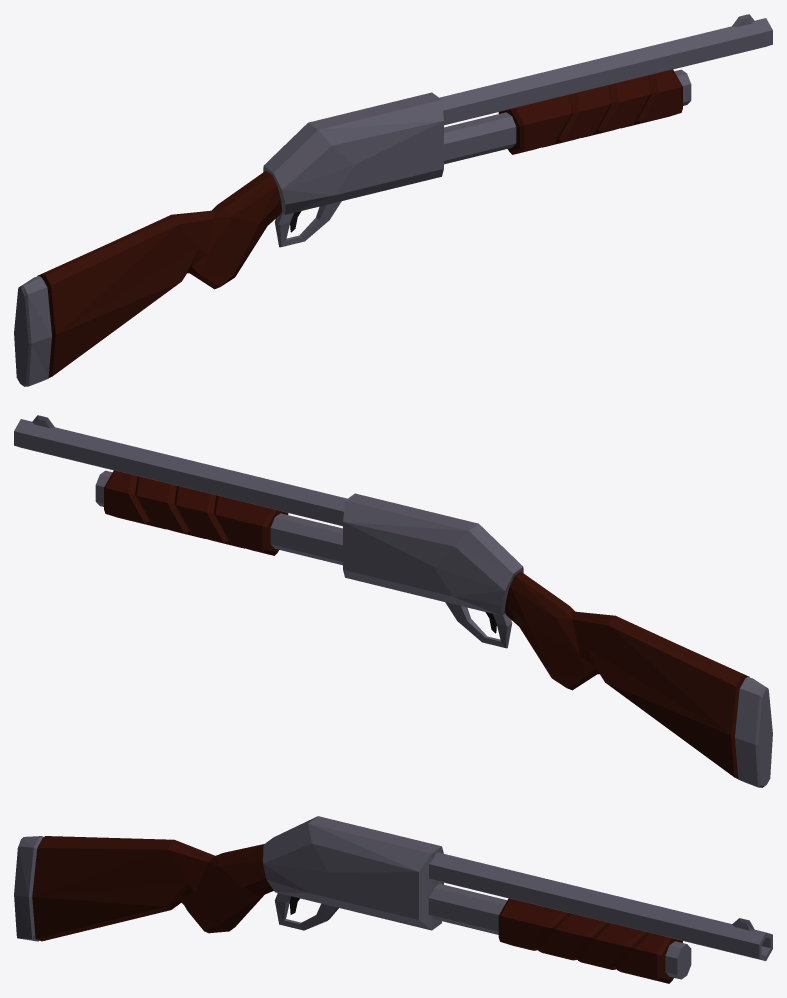
File: ShotGun.FBX
The picture shows the model from 3 angles, top to bottom: view 1: azimuth 30°, elevation 25°; view 2: azimuth 150°, elevation 25°; view 3: azimuth 330°, elevation 25°; orthographic projection.
Visible parts, largest first — view 1: Shotgun; view 2: Shotgun; view 3: Shotgun.
Part boxes in pixels (bbox=[...]): Shotgun: bbox=[14, 14, 772, 386]; Shotgun: bbox=[14, 415, 772, 787]; Shotgun: bbox=[14, 816, 772, 983].
Size of the model in its own units: 1.11 by 0.0642 by 0.2757.
